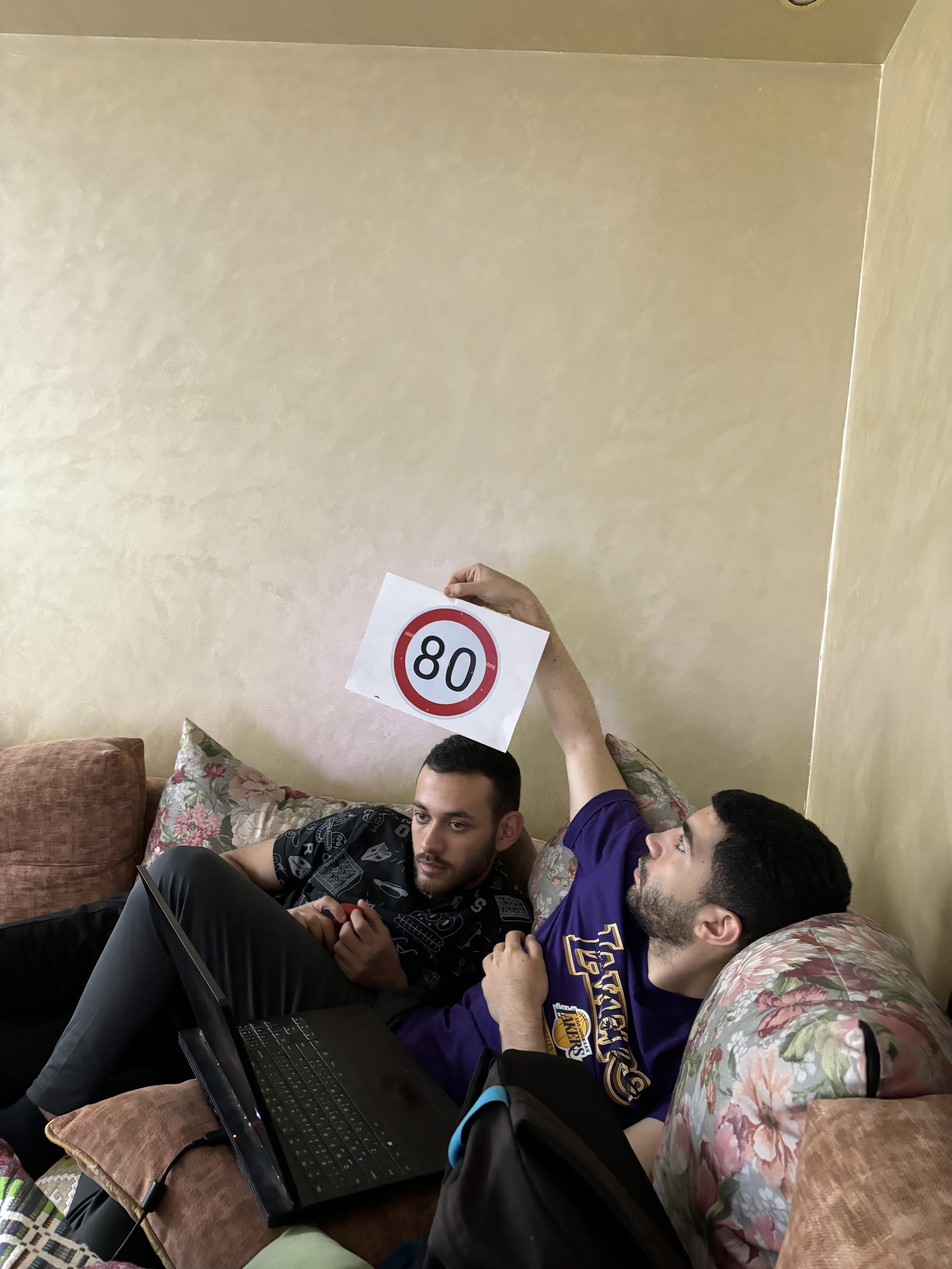80-Speed: (394, 605, 502, 723)
